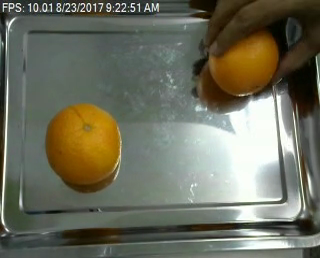Orange: (46, 104, 122, 185)
